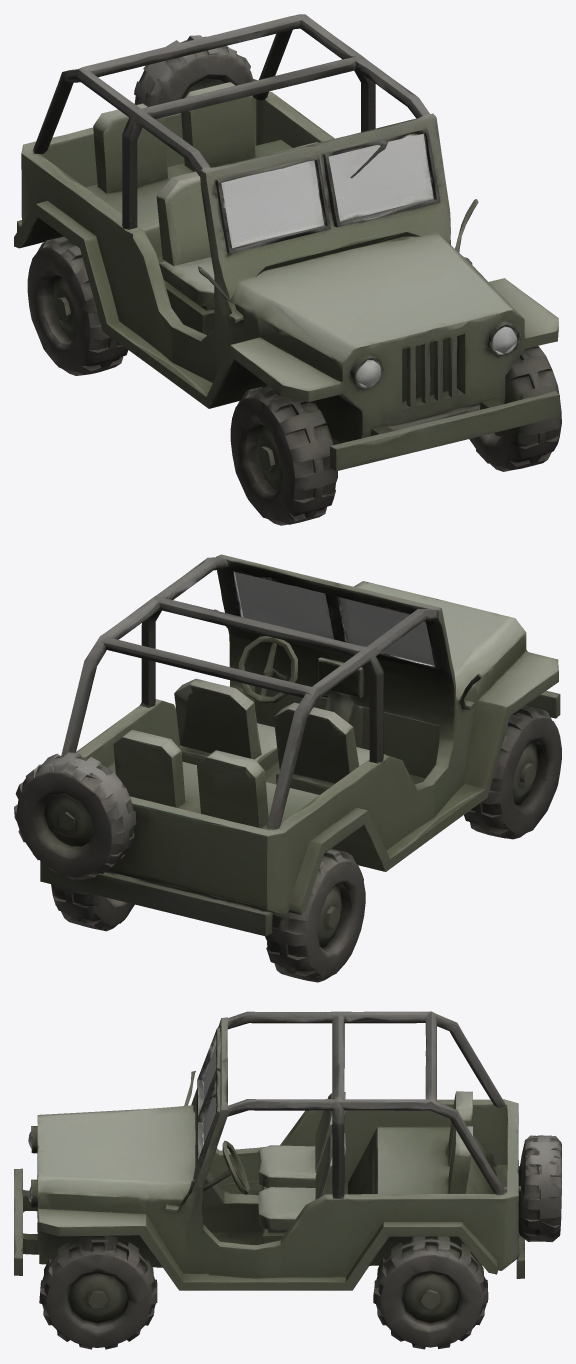
File: exercito_jipe.glb
The picture shows the model from 3 angles, top to bottom: view 1: azimuth 30°, elevation 25°; view 2: azimuth 150°, elevation 25°; view 3: azimuth 270°, elevation 25°; orthographic projection. The views are drawn at different scales.
Parts seen in each view (by area): view 1: tripo_node_fb9301c7-a5de-45a0-ad23-2a1e68462db1; view 2: tripo_node_fb9301c7-a5de-45a0-ad23-2a1e68462db1; view 3: tripo_node_fb9301c7-a5de-45a0-ad23-2a1e68462db1.
Part boxes in pixels (x1,y1,x2,y2): tripo_node_fb9301c7-a5de-45a0-ad23-2a1e68462db1: (14,14,561,525); tripo_node_fb9301c7-a5de-45a0-ad23-2a1e68462db1: (14,554,561,982); tripo_node_fb9301c7-a5de-45a0-ad23-2a1e68462db1: (14,1011,561,1349).
Size of the model in its own units: 2.06 by 2.12 by 4.3.
1 material, 1 textured.
